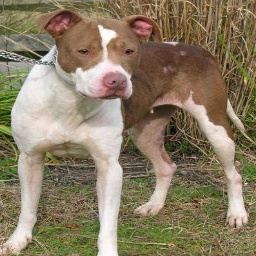dog: (7, 9, 249, 254)
